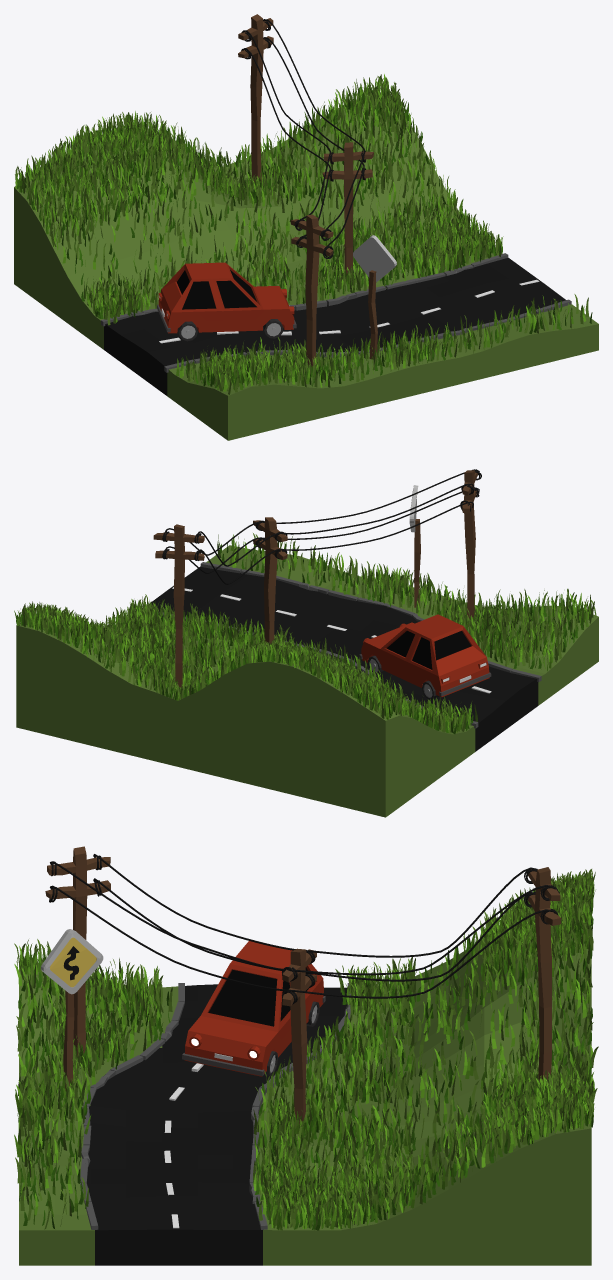
The model's file is hill_road.glb.
The picture shows the model from 3 angles, top to bottom: view 1: azimuth 30°, elevation 25°; view 2: azimuth 150°, elevation 25°; view 3: azimuth 270°, elevation 25°; orthographic projection. The views are drawn at different scales.
Visible parts, largest first — view 1: floor 1, Plane.004, Cube.038, Cube, Cube.028, Cube.039, Cube.029, Cylinder; view 2: Plane.004, floor 1, Cube.038, Cube.028, Cube.029, Cube, Cube.039, BezierCurve.002, BezierCurve, BezierCurve.001, BezierCurve.003; view 3: floor 1, Plane.004, Cube.038, Cube.028, Cube.039, Cube, Cube.029, BezierCurve.003, BezierCurve.001, BezierCurve.002, BezierCurve, Cylinder.002.
Part boxes in pixels (x1,y1,x2,y2): floor 1: (14,92,598,395); Plane.004: (14,187,598,440); Cube.038: (158,262,294,333); Cube: (290,214,333,367); Cube.028: (238,14,273,182); Cube.039: (353,235,396,359); Cube.029: (322,142,373,274); Cylinder: (177,319,283,341); Plane.004: (16,617,598,817); floor 1: (19,545,598,734); Cube.038: (361,614,489,697); Cube.028: (153,524,204,689); Cube.029: (253,517,287,645); Cube: (462,470,477,626); Cube.039: (409,485,420,607); BezierCurve.002: (196,483,473,566); BezierCurve: (196,501,473,584); BezierCurve.001: (163,487,479,573); BezierCurve.003: (163,469,479,555); floor 1: (19,927,591,1230); Plane.004: (19,1128,591,1265); Cube.038: (184,941,323,1076); Cube.028: (528,867,561,1085); Cube.039: (41,929,103,1092); Cube: (45,846,110,1056); Cube.029: (282,948,317,1125); BezierCurve.003: (50,861,559,975); BezierCurve.001: (50,885,554,998); BezierCurve.002: (93,854,537,957); BezierCurve: (93,878,535,981); Cylinder.002: (182,1034,264,1076).
Bounding box in the file's own units: 11.59 × 6.64 × 11.65.
